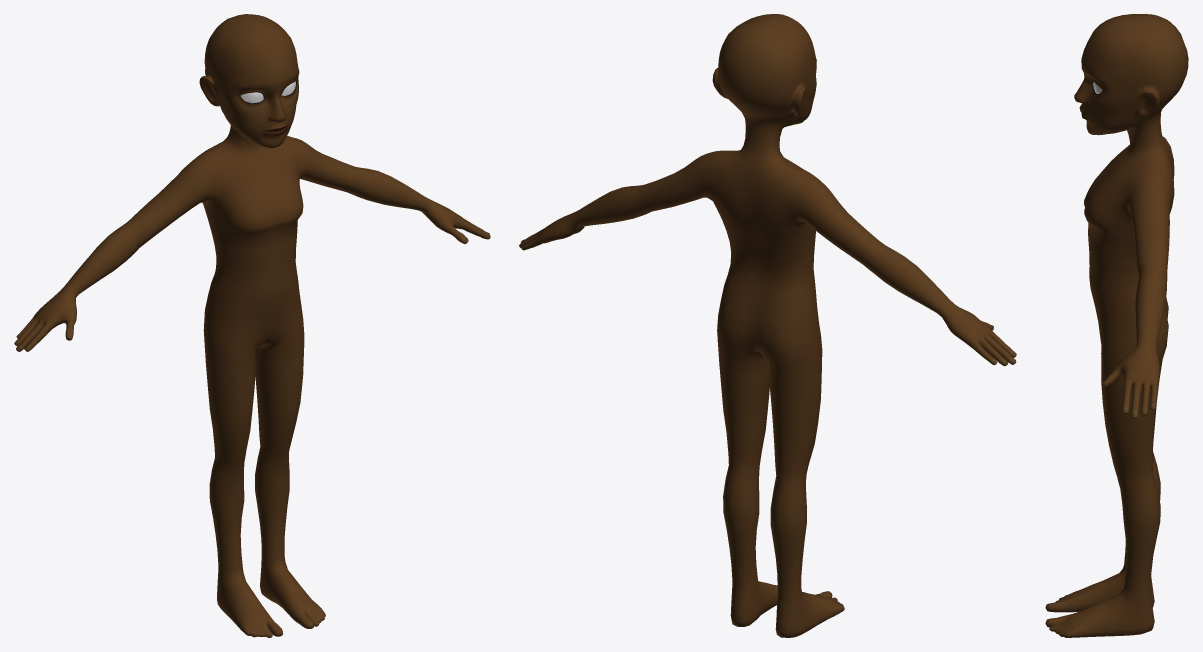
The model's file is frame_0003.glb.
3 renders of one model, left to right at view 1: azimuth 30°, elevation 25°; view 2: azimuth 150°, elevation 25°; view 3: azimuth 270°, elevation 25°, orthographic. The views are drawn at different scales.
Parts seen in each view (by area): view 1: frame_0003_head_geo; view 2: frame_0003_head_geo; view 3: frame_0003_head_geo.
Boxes of the visible parts, x1,y1,x2,y2 form: frame_0003_head_geo: [14, 14, 490, 637]; frame_0003_head_geo: [519, 14, 1016, 637]; frame_0003_head_geo: [1045, 14, 1188, 637].
Bounding box in the file's own units: 1.28 × 1.5 × 0.3234.
4 materials, 2 textured.
